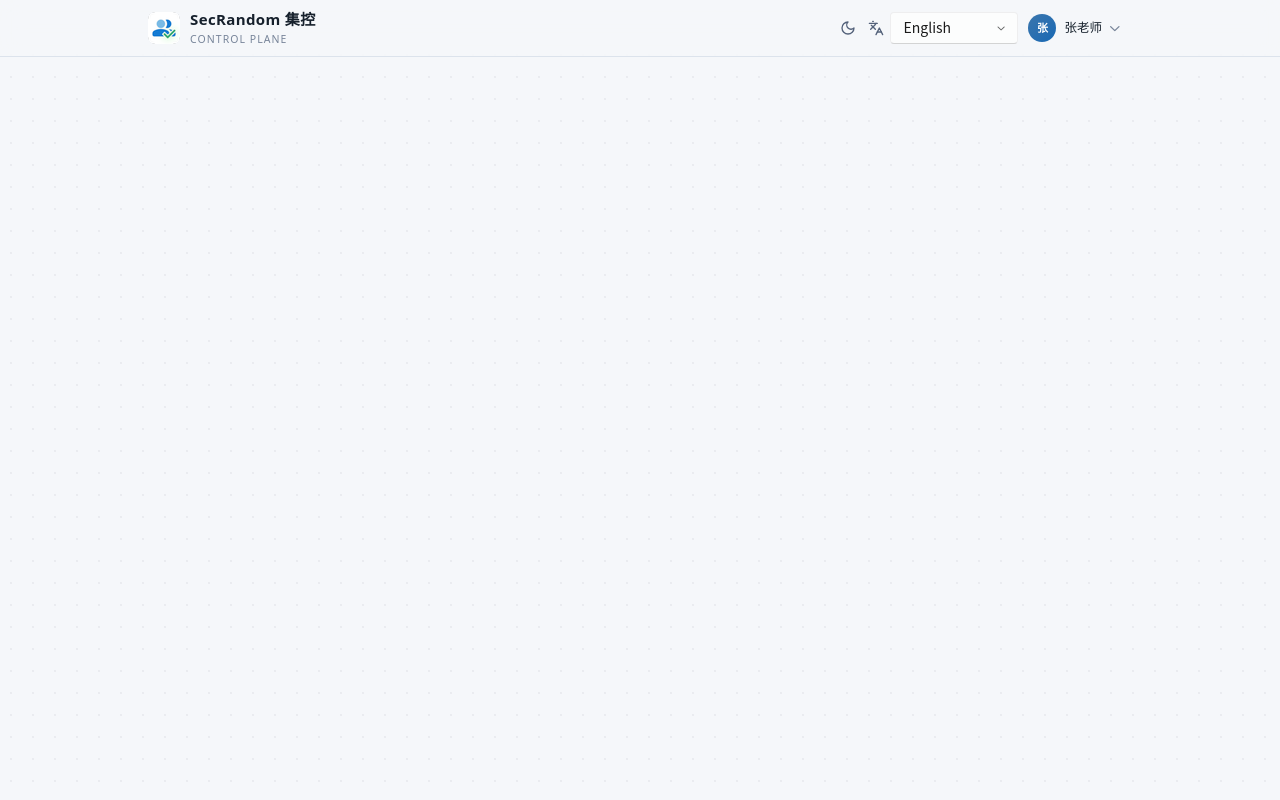
SiteHeader › 已登录：右上角显示当前账号，点开是账号菜单
This screenshot has width=1280, height=800.
Expected: the text "登录" is not shown
Click the button "张 张老师" at x=1077, y=28, box [1022,10,1132,46]
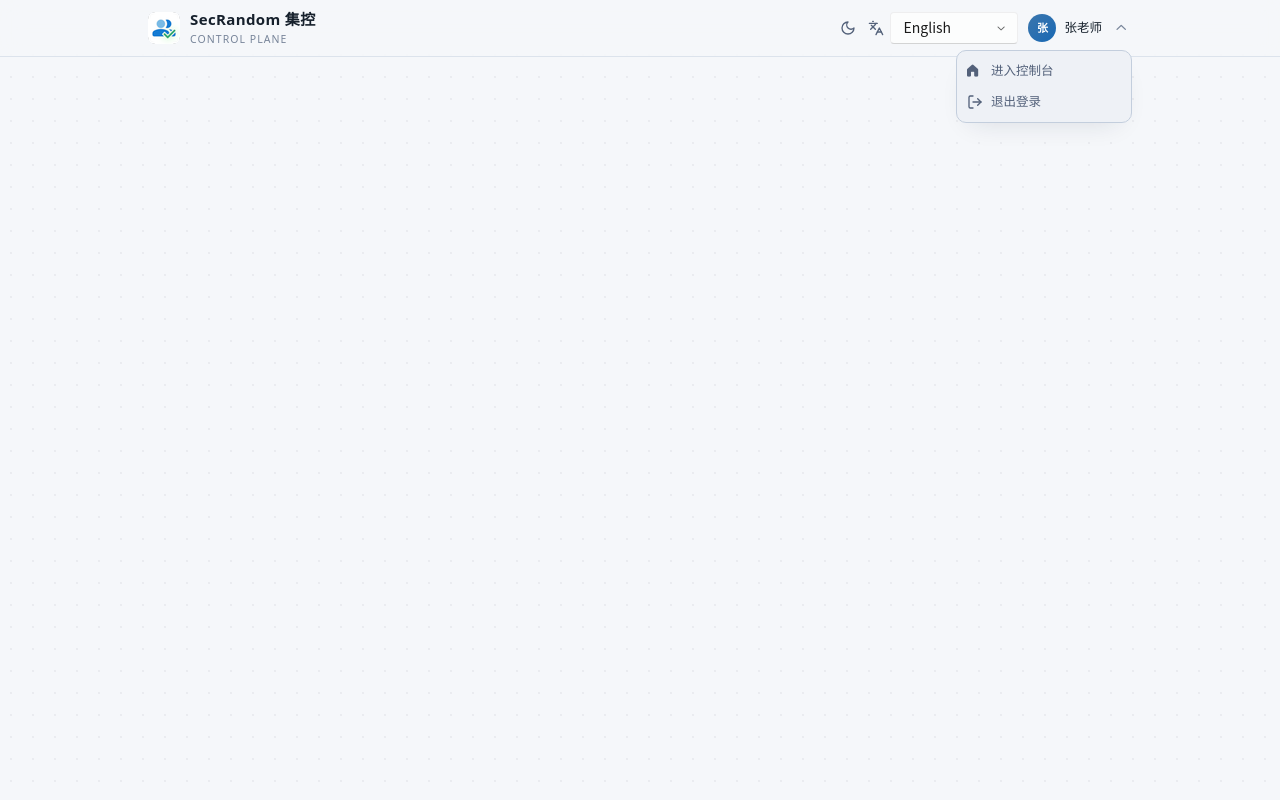
Expected: the menu item "进入控制台" is shown, [967,62,1054,79]
Expected: the menu item "退出登录" is shown, [957,86,1131,118]
